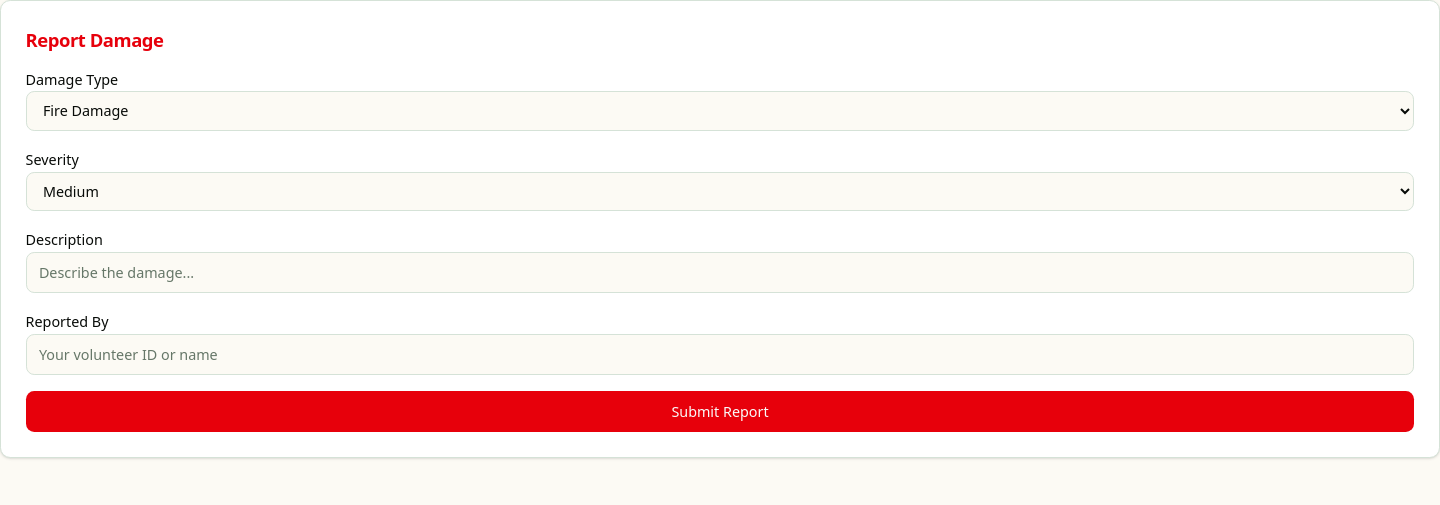
Scenario: DamageReportForm › shows validation error when required field is empty after user interaction
This screenshot has width=1440, height=505.
Type "Some text" into the field with test id "description-input".
click(720, 272); type("Some text")  # box [26,252,1414,293]
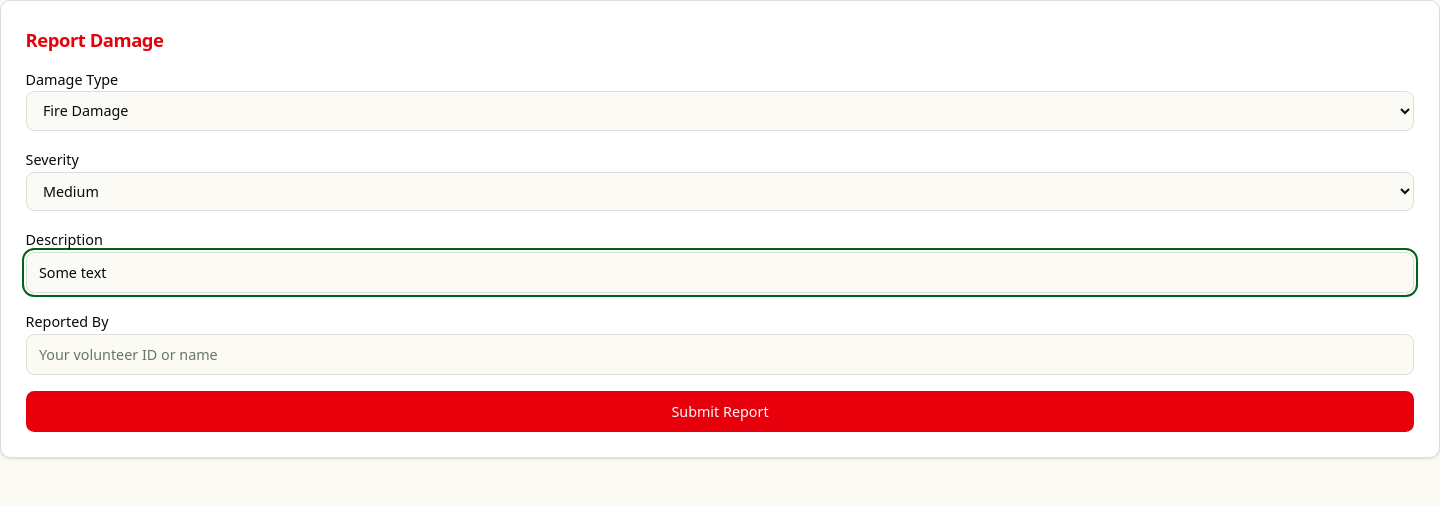
Clear the field with test id "description-input" at (720, 272), box [26,252,1414,293]
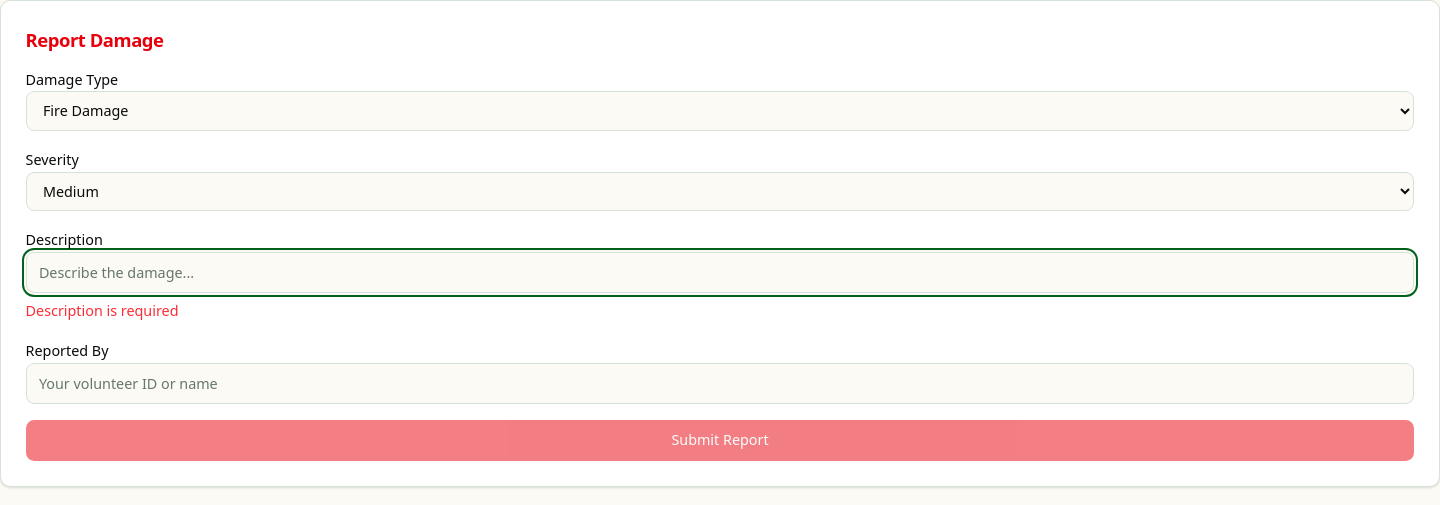
Expected: the text "Description is required" is shown, [26,301,178,320]
